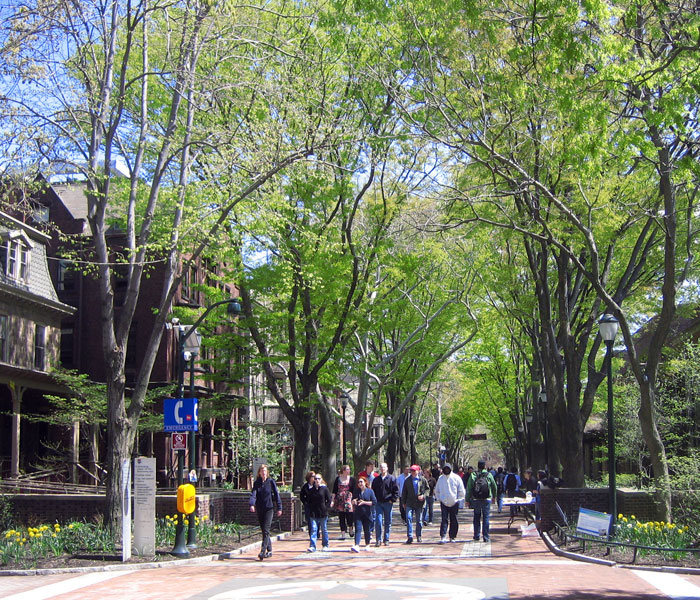Tree: (16, 1, 212, 563), (422, 1, 628, 506)
